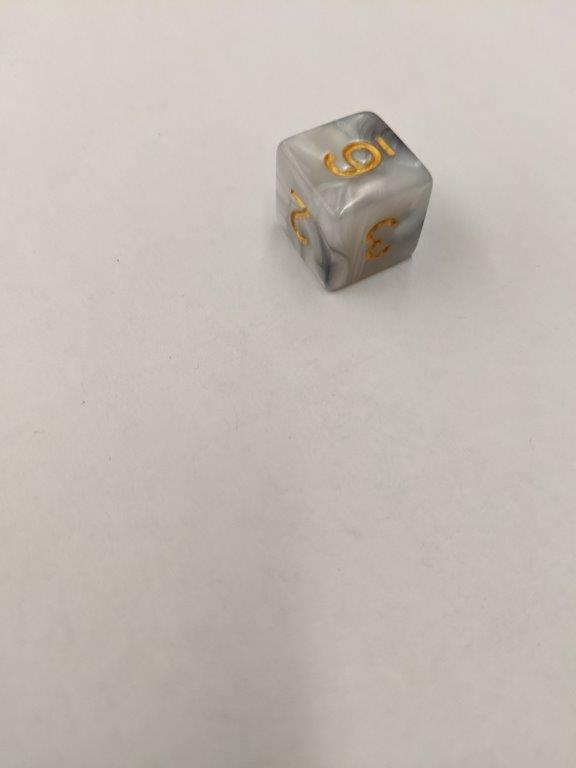d6-6: (276, 108, 433, 287)
